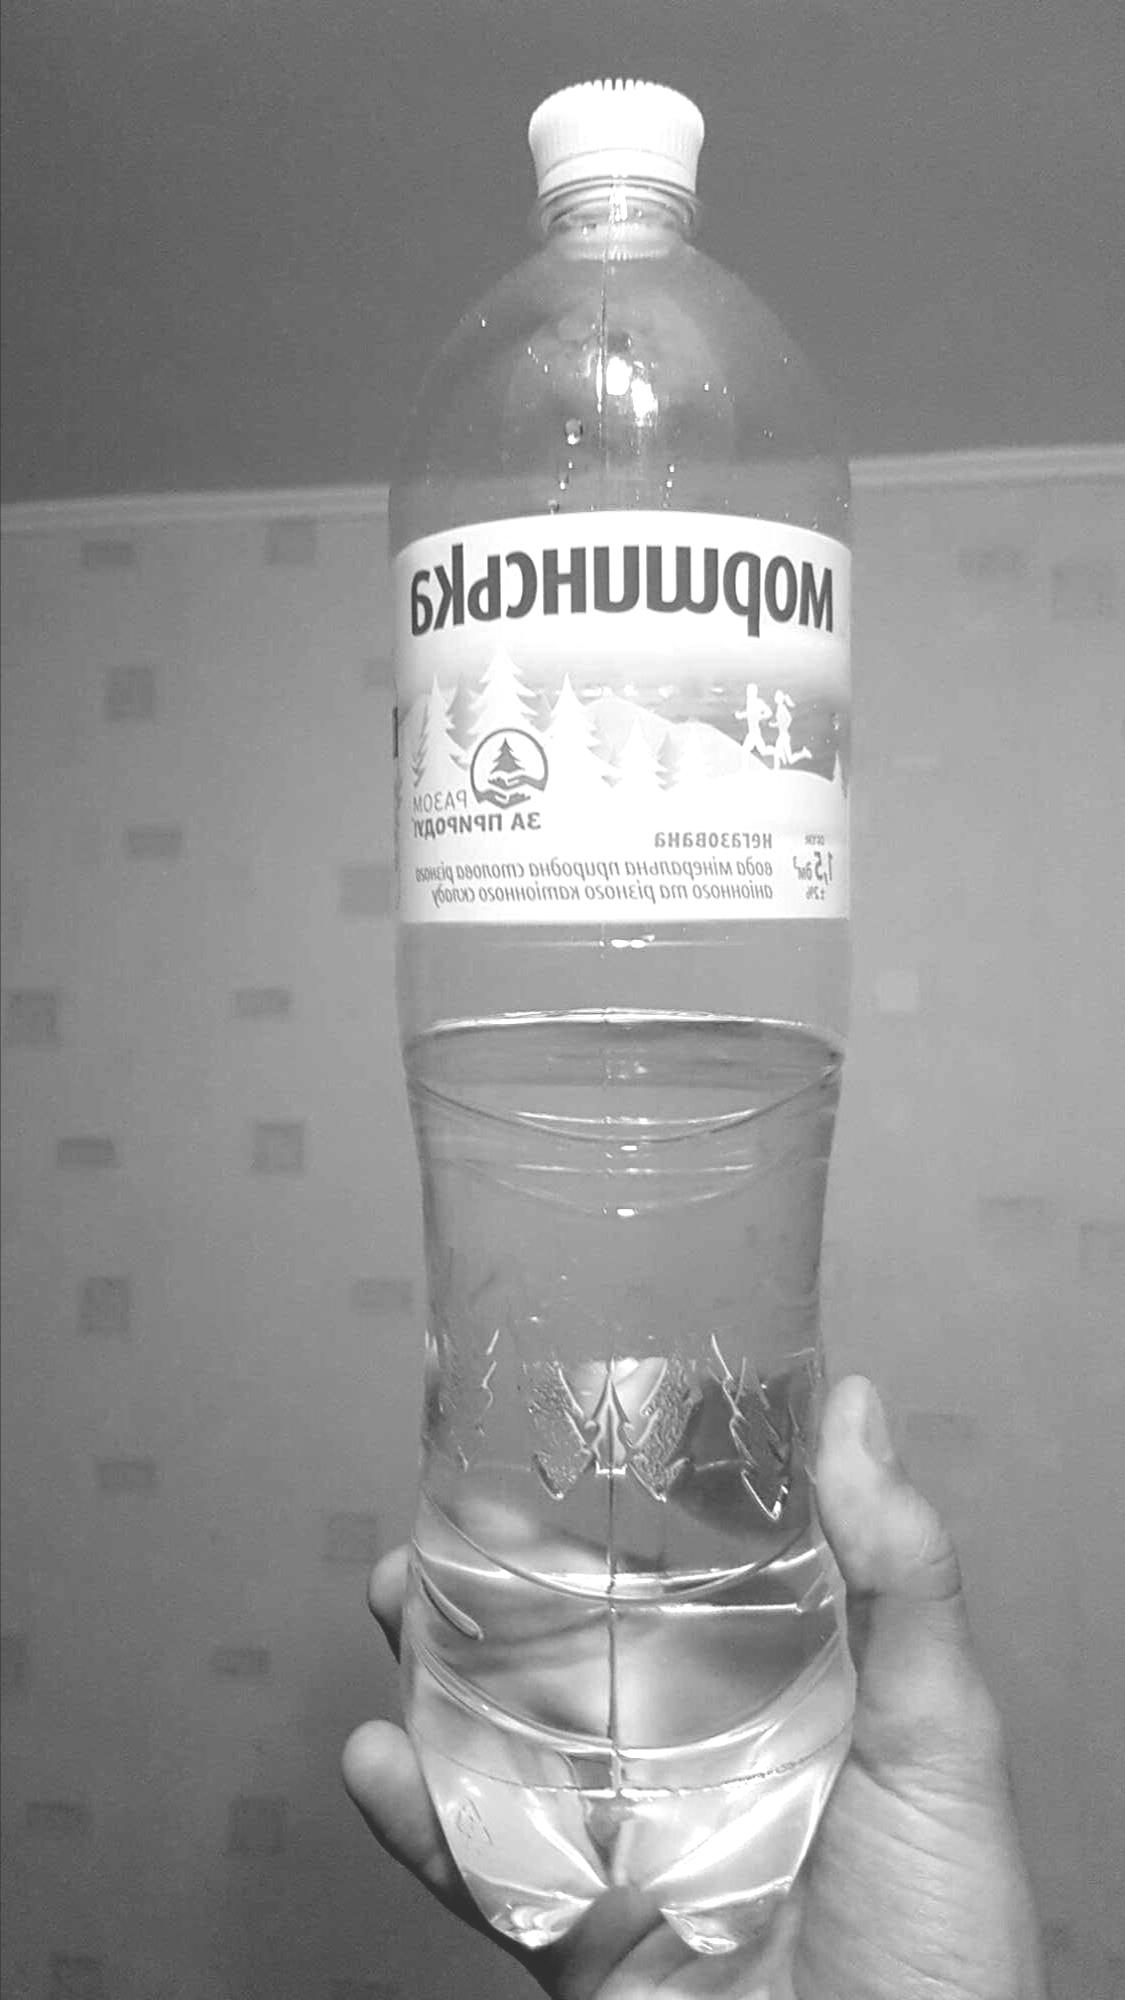bottle: (315, 60, 898, 1973)
